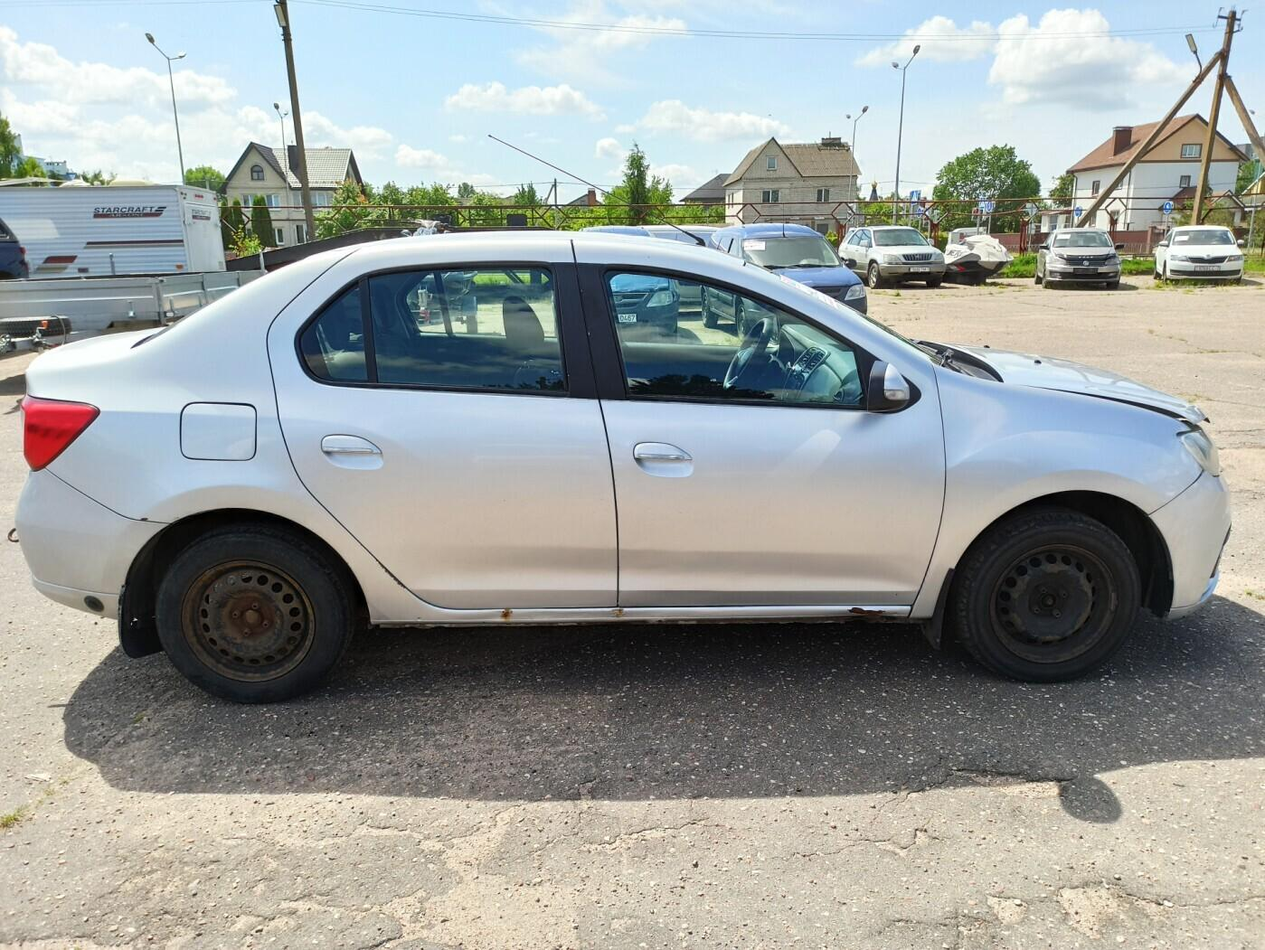Logan_2018: (18, 229, 1232, 690)
